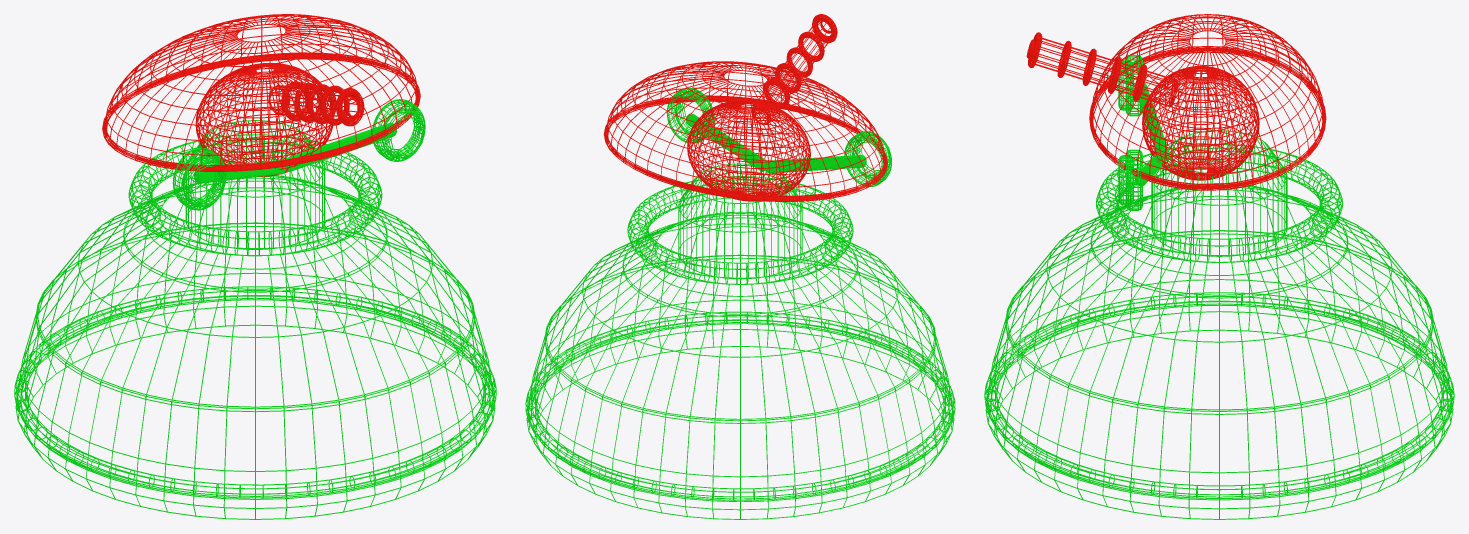
Rendered from plasma-turret-highlight-water-cooled-plasma-delivery.glb.
The picture shows the model from 3 angles, left to right: view 1: azimuth 30°, elevation 25°; view 2: azimuth 150°, elevation 25°; view 3: azimuth 270°, elevation 25°; orthographic projection. The views are drawn at different scales.
Parts seen in each view (by area): view 1: armoured-power-base technical wire, water-cooled-plasma-delivery technical wire, chassis technical wire, tracking-and-ranging-sensors technical wire; view 2: armoured-power-base technical wire, water-cooled-plasma-delivery technical wire, chassis technical wire, tracking-and-ranging-sensors technical wire; view 3: armoured-power-base technical wire, water-cooled-plasma-delivery technical wire, chassis technical wire, tracking-and-ranging-sensors technical wire.
Part boxes in pixels (left/top/right/bottom): armoured-power-base technical wire: left=15, top=120, right=495, bottom=519; water-cooled-plasma-delivery technical wire: left=102, top=14, right=420, bottom=176; chassis technical wire: left=14, top=286, right=496, bottom=498; tracking-and-ranging-sensors technical wire: left=172, top=99, right=425, bottom=210; armoured-power-base technical wire: left=526, top=163, right=954, bottom=519; water-cooled-plasma-delivery technical wire: left=603, top=14, right=887, bottom=201; chassis technical wire: left=525, top=311, right=955, bottom=500; tracking-and-ranging-sensors technical wire: left=666, top=88, right=891, bottom=186; armoured-power-base technical wire: left=985, top=130, right=1453, bottom=519; water-cooled-plasma-delivery technical wire: left=1026, top=14, right=1326, bottom=190; chassis technical wire: left=984, top=292, right=1454, bottom=498; tracking-and-ranging-sensors technical wire: left=1118, top=55, right=1168, bottom=210.
Size of the model in its own units: 2.02 by 1.85 by 2.02.
